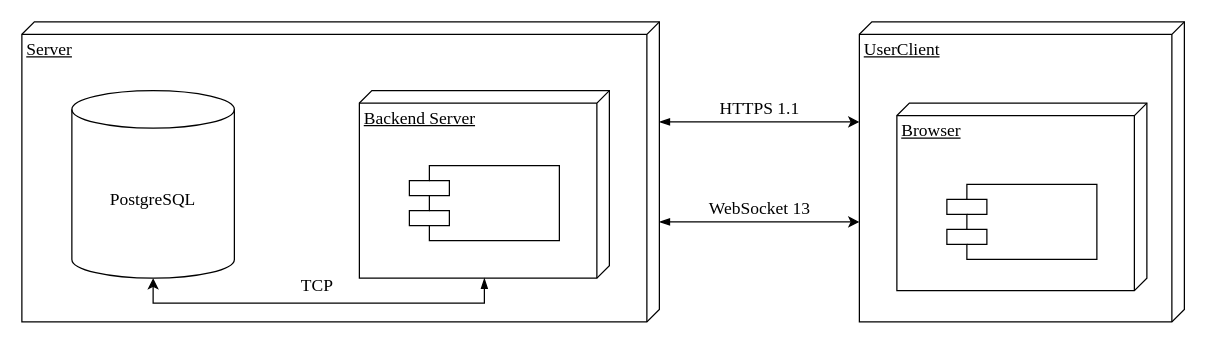
The diagram is 1206 pixels wide and 344 high, and some of its shapes have lost their labels. Here are the shapes that lost their labels. From the top down, the centre of each, then its label:
At (x=483, y=202): "ExpressJS Prisma".
At (x=1021, y=221): "ReactJS".
